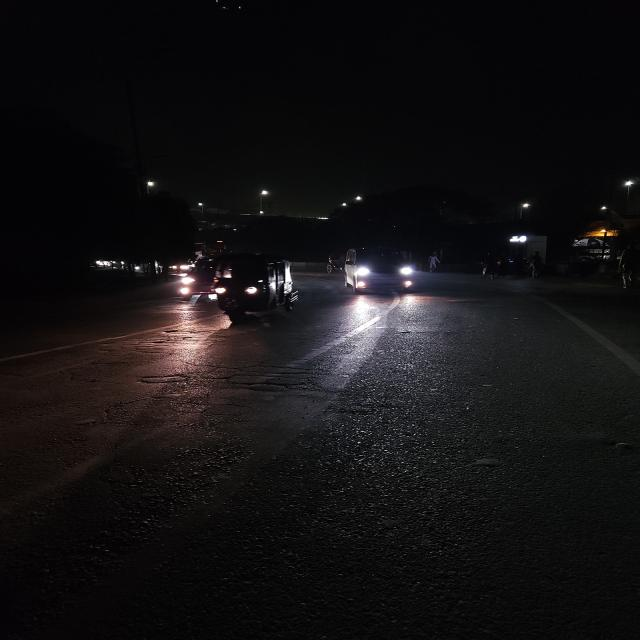car: (341, 243, 422, 299)
cng: (207, 248, 306, 328)
